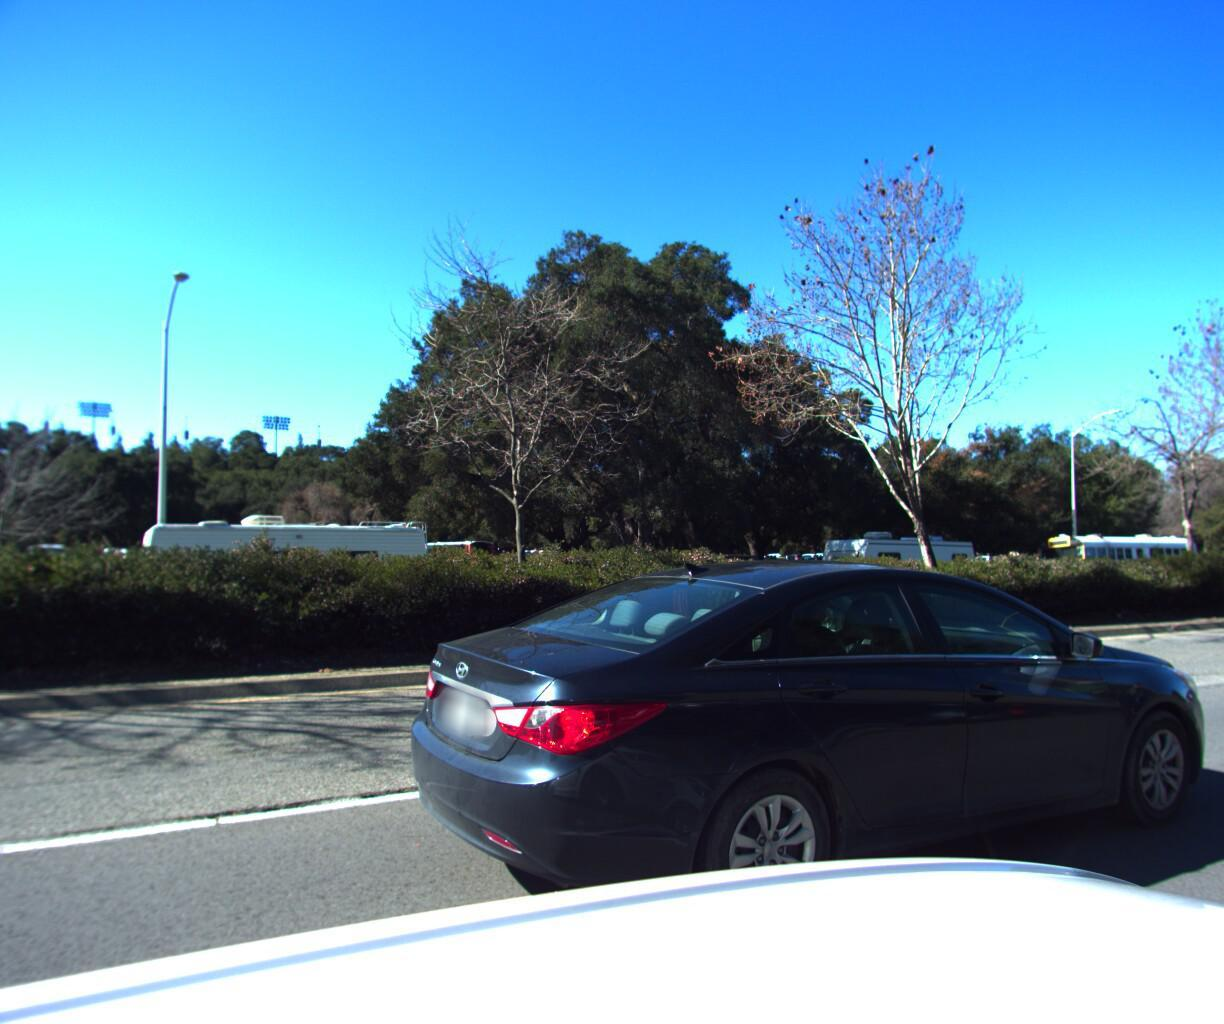bus: (1009, 520, 1196, 598)
car: (370, 554, 1224, 1024), (655, 550, 799, 599)
other_vehicle: (133, 508, 440, 641), (810, 528, 975, 608)
